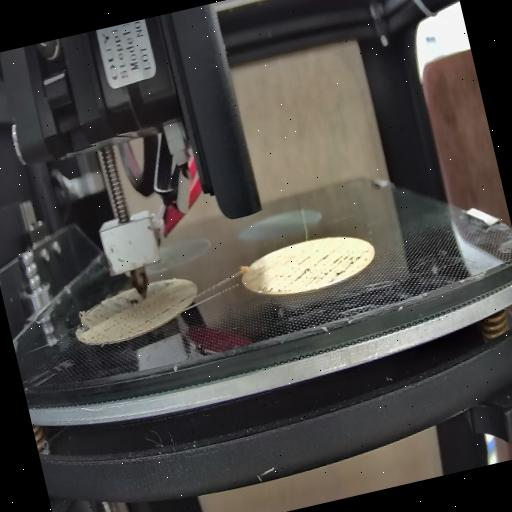under_extrusion: (259, 246, 375, 296), (68, 284, 143, 329), (156, 287, 200, 311)
